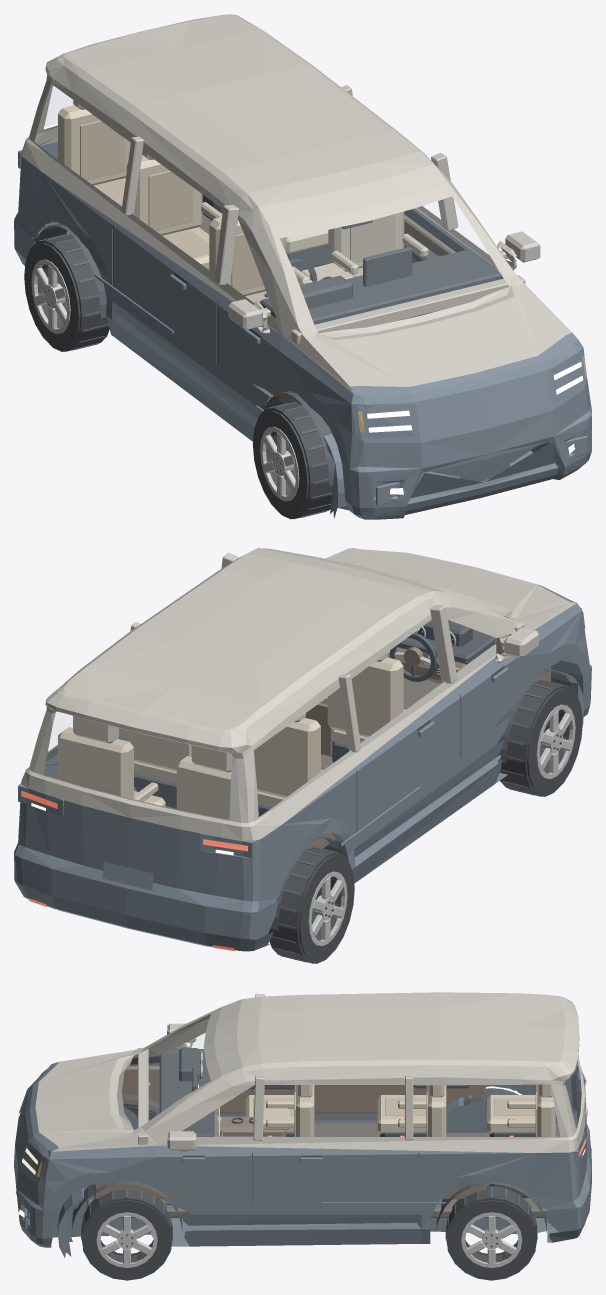
The model's file is OriginalMPV.glb.
The picture shows the model from 3 angles, top to bottom: view 1: azimuth 30°, elevation 25°; view 2: azimuth 150°, elevation 25°; view 3: azimuth 270°, elevation 25°; orthographic projection. The views are drawn at different scales.
Parts seen in each view (by area): view 1: Body_SlateBlue, Roof_WarmIvory, Body_WarmIvory, Interior_CharcoalTrim, Interior_SeatInsert, Interior_SandUpholstery, WheelRearLeft_TireRubber, WheelFrontLeft_TireRubber, Body_LinersAndSeams, WheelRearLeft_MatteAlloy, WheelFrontLeft_MatteAlloy, Interior_WalnutDashboard (+2 smaller); view 2: Body_SlateBlue, Roof_WarmIvory, Body_WarmIvory, Interior_SandUpholstery, WheelRearLeft_TireRubber, WheelFrontLeft_TireRubber, Interior_CharcoalTrim, WheelFrontLeft_MatteAlloy, WheelRearLeft_MatteAlloy, Body_LinersAndSeams, Interior_WalnutDashboard, Interior_CabinFloor (+4 smaller); view 3: Body_SlateBlue, Roof_WarmIvory, Body_WarmIvory, Interior_SandUpholstery, Interior_WalnutDashboard, WheelRearRight_TireRubber, WheelFrontRight_TireRubber, Interior_CharcoalTrim, WheelRearRight_MatteAlloy, WheelFrontRight_MatteAlloy, Interior_CabinFloor, Body_LinersAndSeams (+1 smaller).
Boxes of the visible parts, x1,y1,x2,y2 form: Body_SlateBlue: [14, 138, 591, 519]; Roof_WarmIvory: [45, 14, 448, 227]; Body_WarmIvory: [21, 70, 571, 393]; Interior_CharcoalTrim: [202, 194, 501, 324]; Interior_SeatInsert: [80, 120, 394, 302]; Interior_SandUpholstery: [58, 100, 428, 296]; WheelRearLeft_TireRubber: [24, 234, 109, 351]; WheelFrontLeft_TireRubber: [253, 402, 332, 519]; Body_LinersAndSeams: [35, 223, 335, 485]; WheelRearLeft_MatteAlloy: [31, 259, 70, 334]; WheelFrontLeft_MatteAlloy: [260, 426, 299, 501]; Interior_WalnutDashboard: [266, 214, 455, 405]; Body_SlateBlue: [14, 548, 591, 951]; Roof_WarmIvory: [45, 548, 448, 752]; Body_WarmIvory: [21, 548, 576, 840]; Interior_SandUpholstery: [58, 631, 459, 819]; WheelRearLeft_TireRubber: [268, 847, 354, 963]; WheelFrontLeft_TireRubber: [497, 680, 582, 796]; Interior_CharcoalTrim: [118, 620, 496, 816]; WheelFrontLeft_MatteAlloy: [536, 704, 575, 779]; WheelRearLeft_MatteAlloy: [308, 871, 347, 946]; Body_LinersAndSeams: [270, 665, 571, 930]; Interior_WalnutDashboard: [119, 644, 550, 848]; Interior_CabinFloor: [165, 677, 440, 809]; Body_SlateBlue: [14, 1056, 591, 1257]; Roof_WarmIvory: [214, 992, 579, 1080]; Body_WarmIvory: [35, 993, 586, 1152]; Interior_SandUpholstery: [202, 1053, 555, 1136]; Interior_WalnutDashboard: [94, 1066, 485, 1199]; WheelRearRight_TireRubber: [446, 1186, 537, 1280]; WheelFrontRight_TireRubber: [81, 1189, 172, 1280]; Interior_CharcoalTrim: [159, 1048, 535, 1204]; WheelRearRight_MatteAlloy: [461, 1212, 522, 1267]; WheelFrontRight_MatteAlloy: [96, 1212, 157, 1267]; Interior_CabinFloor: [86, 1123, 560, 1217]; Body_LinersAndSeams: [72, 1088, 546, 1232].
Bounding box in the file's own units: 2.55 × 2.09 × 5.39.
